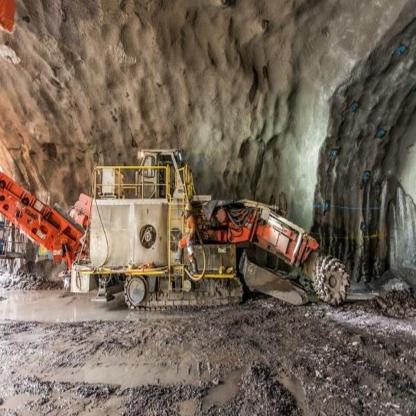person: (172, 198, 202, 278)
